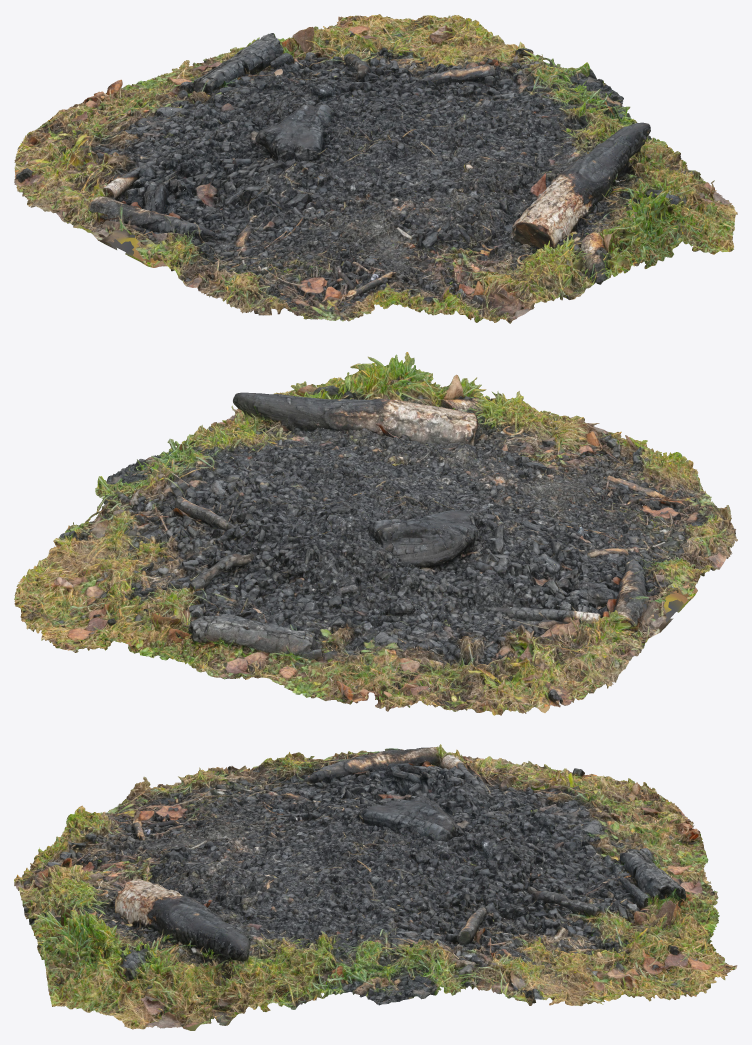
File: sf-natural-campfire-in-grass-43744e.glb
3 renders of one model, top to bottom at view 1: azimuth 30°, elevation 25°; view 2: azimuth 150°, elevation 25°; view 3: azimuth 270°, elevation 25°, orthographic. The views are drawn at different scales.
Parts seen in each view (by area): view 1: Model_material1_0, Model_material0_0; view 2: Model_material0_0, Model_material1_0; view 3: Model_material1_0, Model_material0_0.
Boxes of the visible parts, box(x1,y1,x2,y2) form: Model_material1_0: box(14, 14, 736, 322); Model_material0_0: box(14, 15, 737, 323); Model_material0_0: box(14, 352, 737, 713); Model_material1_0: box(19, 354, 735, 715); Model_material1_0: box(15, 744, 733, 1030); Model_material0_0: box(14, 747, 737, 1030).
Bounding box in the file's own units: 1.32 × 0.1784 × 1.5.
2 materials, 2 textured.
